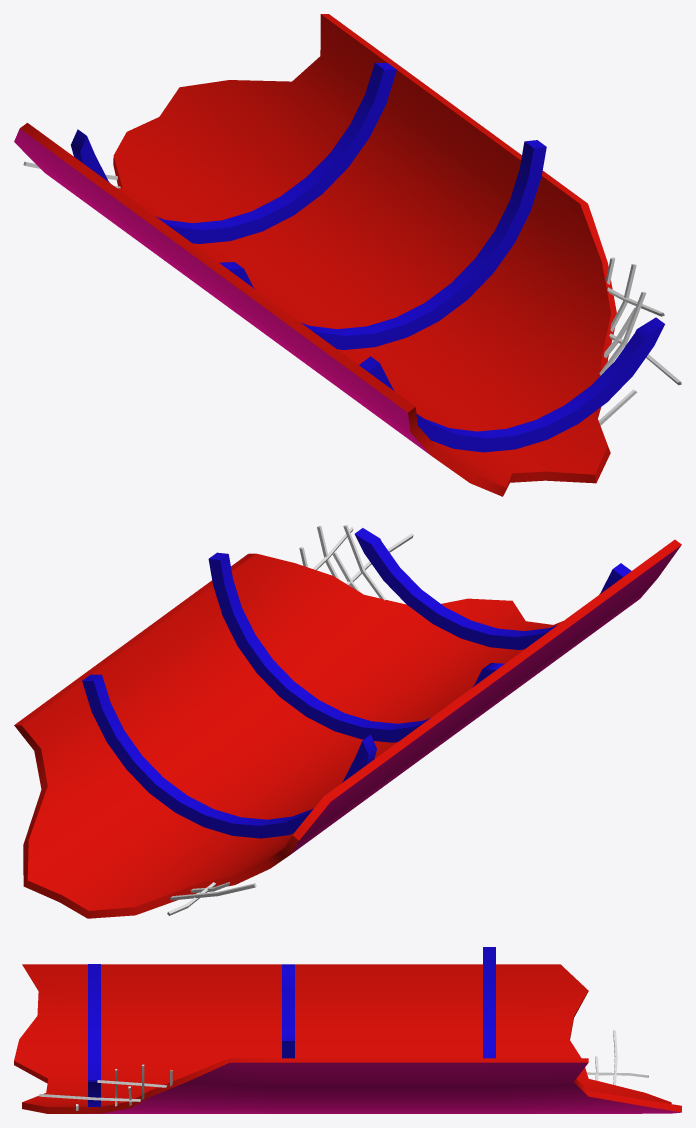
File: Hull1.fbx
3 renders of one model, top to bottom at view 1: azimuth 30°, elevation 25°; view 2: azimuth 150°, elevation 25°; view 3: azimuth 270°, elevation 25°, orthographic. The views are drawn at different scales.
Parts seen in each view (by area): view 1: Main, sticks; view 2: Main, sticks; view 3: Main, sticks.
Boxes of the visible parts, bbox=[...] form: Main: bbox=[14, 14, 664, 496]; sticks: bbox=[23, 161, 681, 425]; Main: bbox=[14, 528, 681, 918]; sticks: bbox=[167, 525, 413, 915]; Main: bbox=[14, 947, 681, 1113]; sticks: bbox=[39, 1030, 648, 1110].
Bounding box in the file's own units: 284 × 139 × 717.
